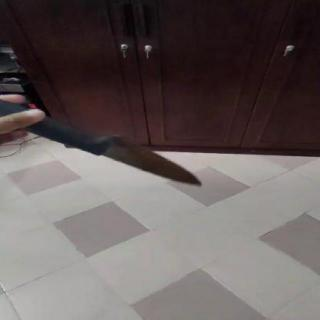knife: (68, 119, 216, 188)
